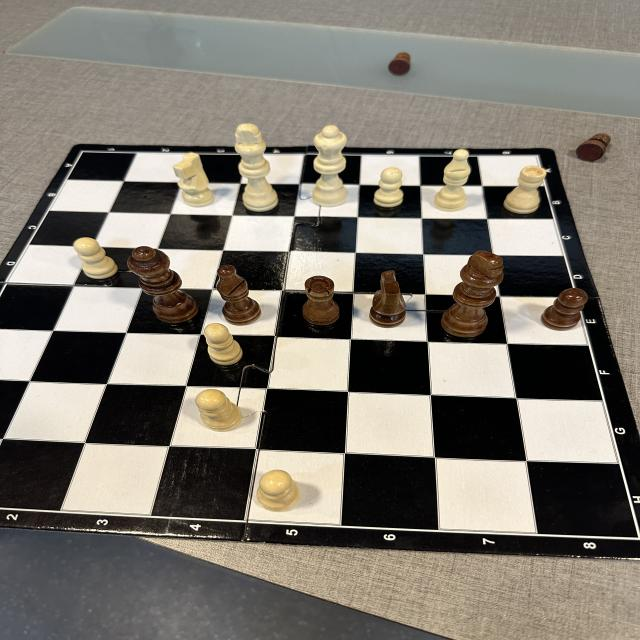Black-Bishop: (216, 265, 262, 326)
Black-King: (440, 250, 505, 338)
Black-Knight: (369, 270, 407, 328)
Black-Pawn: (540, 288, 589, 331), (576, 133, 612, 162), (387, 52, 411, 76)
Black-Queen: (126, 246, 200, 324)
Black-Rook: (301, 275, 340, 326)
White-Bishop: (433, 149, 471, 212)
White-King: (234, 123, 279, 212)
White-Knight: (173, 152, 215, 207)
White-Pawn: (195, 389, 243, 432), (73, 237, 119, 280), (256, 469, 300, 512), (203, 323, 244, 366), (372, 167, 404, 208)
White-Queen: (313, 125, 349, 207)
White-Rook: (503, 166, 547, 214)
